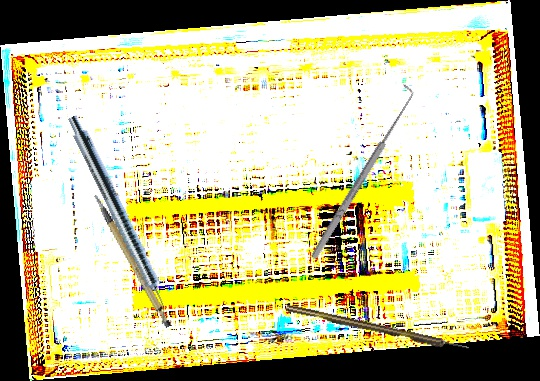Handpiece: (61, 113, 179, 326)
Hook Surgical: (302, 83, 421, 262), (285, 303, 470, 354)
Scalpel Handle: (93, 185, 174, 336)
